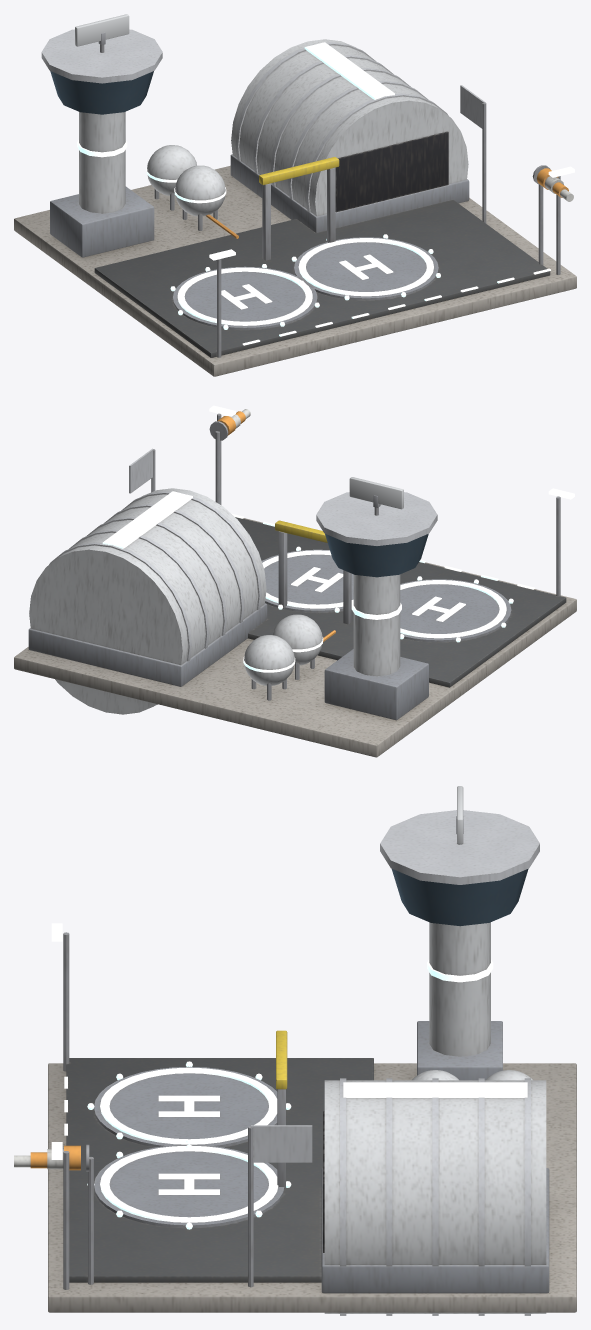
File: west_airfield.glb
The picture shows the model from 3 angles, top to bottom: view 1: azimuth 30°, elevation 25°; view 2: azimuth 150°, elevation 25°; view 3: azimuth 270°, elevation 25°; orthographic projection. The views are drawn at different scales.
Visible parts, largest first — view 1: Hull, Spin; view 2: Hull, Spin; view 3: Hull.
Boxes of the visible parts, left/top/right/bottom form: Hull: left=14, top=29, right=576, bottom=376; Spin: left=75, top=14, right=129, bottom=46; Hull: left=14, top=405, right=576, bottom=757; Spin: left=349, top=477, right=403, bottom=509; Hull: left=14, top=810, right=576, bottom=1315.
Size of the model in its own units: 9.2 by 6.25 by 9.15.
Materials: 15 (13 with a texture image).
